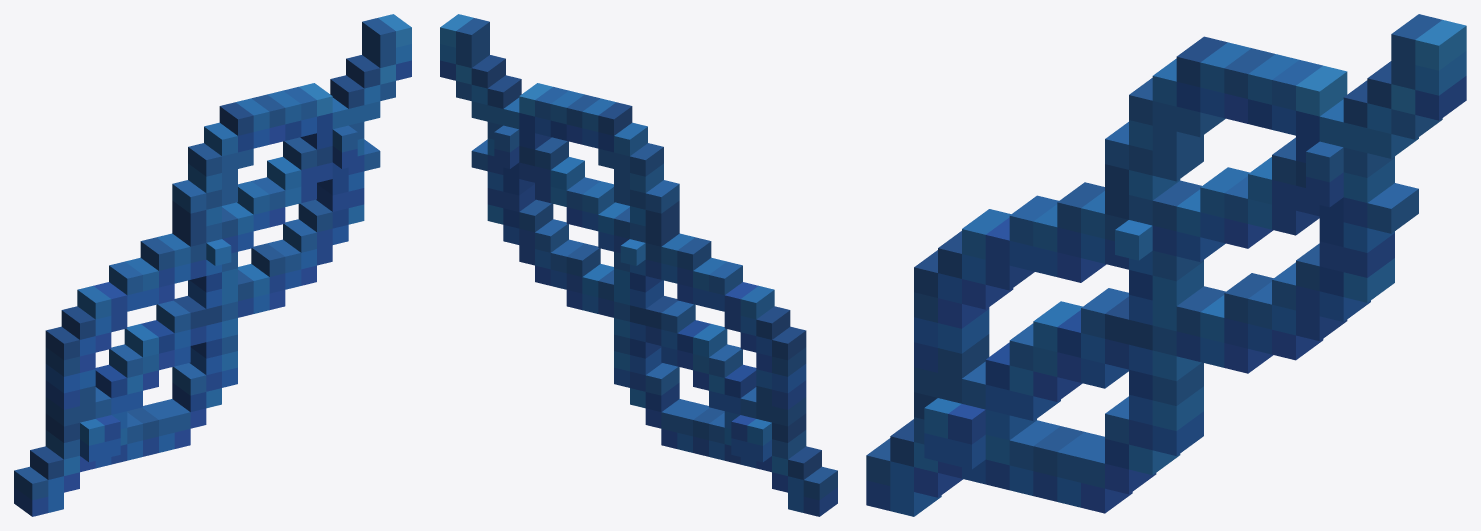
The model's file is knot.glb.
The picture shows the model from 3 angles, left to right: view 1: azimuth 30°, elevation 25°; view 2: azimuth 150°, elevation 25°; view 3: azimuth 330°, elevation 25°; orthographic projection. The views are drawn at different scales.
Visible parts, largest first — view 1: prop; view 2: prop; view 3: prop.
Part boxes in pixels (x1,y1,x2,y2): prop: (14,14,411,516); prop: (440,14,837,516); prop: (866,14,1466,516).
Bounding box in the file's own units: 16 × 16 × 2.67.
